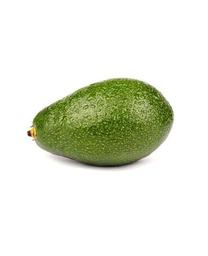avocado: (32, 78, 173, 167)
